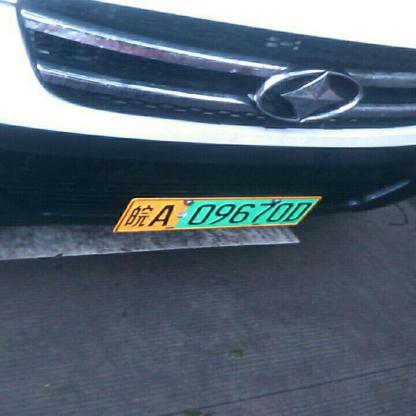lp: (116, 198, 320, 230)
